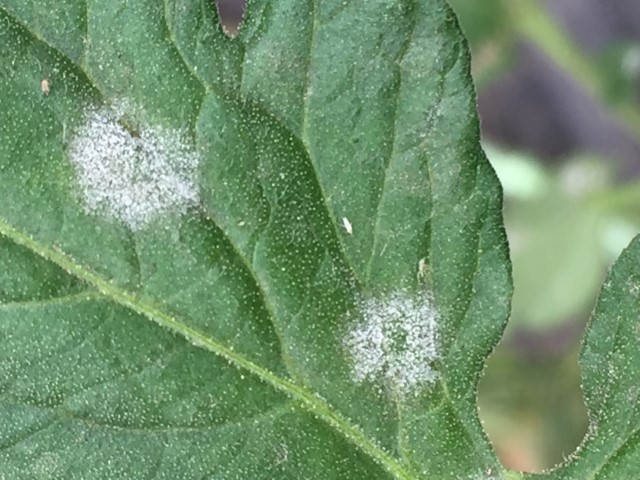oidio: (67, 96, 202, 229), (340, 285, 445, 399)
